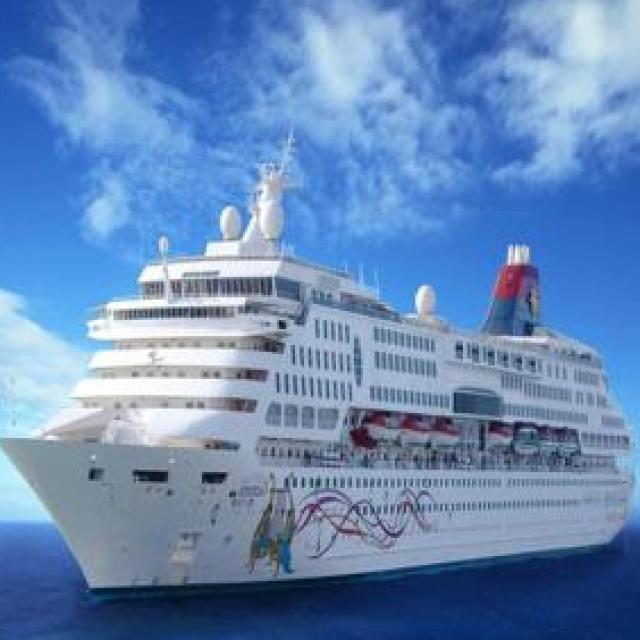passenger ship: (11, 165, 626, 593)
